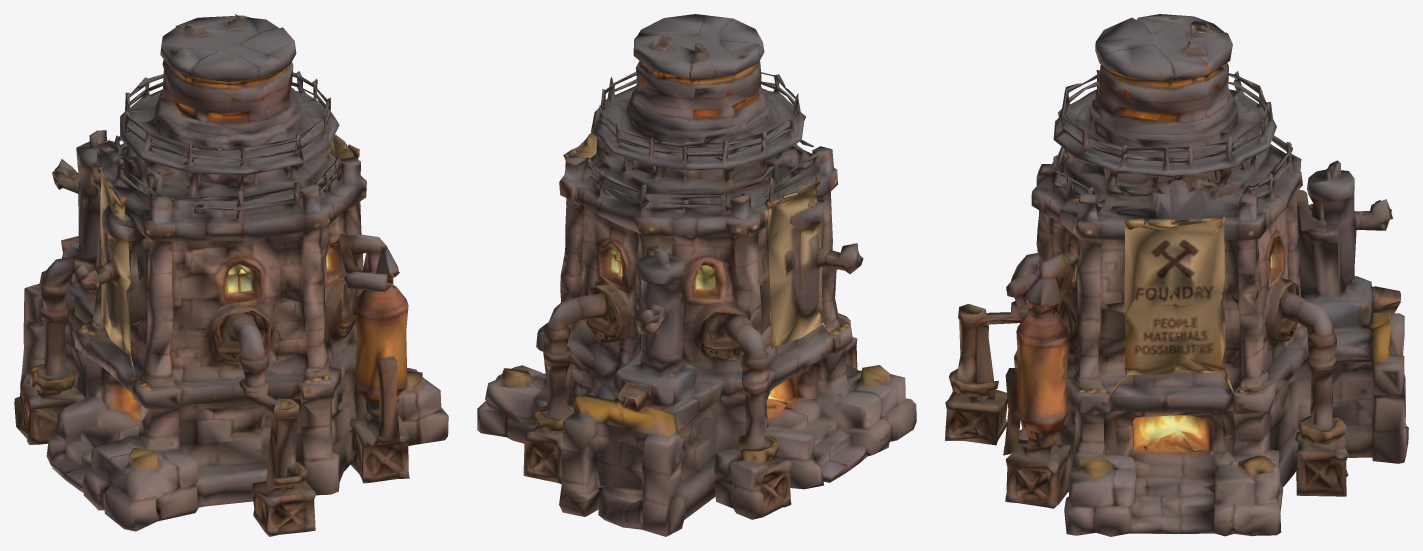
Rendered from furnace.glb.
3 renders of one model, left to right at view 1: azimuth 30°, elevation 25°; view 2: azimuth 150°, elevation 25°; view 3: azimuth 270°, elevation 25°, orthographic. The views are drawn at different scales.
Parts seen in each view (by area): view 1: tripo_node_1b6c125e-44ed-4a18-a81c-d2b0c7a4f401; view 2: tripo_node_1b6c125e-44ed-4a18-a81c-d2b0c7a4f401; view 3: tripo_node_1b6c125e-44ed-4a18-a81c-d2b0c7a4f401.
Part boxes in pixels (x1,y1,x2,y2): tripo_node_1b6c125e-44ed-4a18-a81c-d2b0c7a4f401: [14, 14, 448, 536]; tripo_node_1b6c125e-44ed-4a18-a81c-d2b0c7a4f401: [477, 14, 916, 536]; tripo_node_1b6c125e-44ed-4a18-a81c-d2b0c7a4f401: [945, 14, 1408, 536].
Size of the model in its own units: 0.8523 by 0.996 by 0.9953.
Materials: 1 (1 with a texture image).
